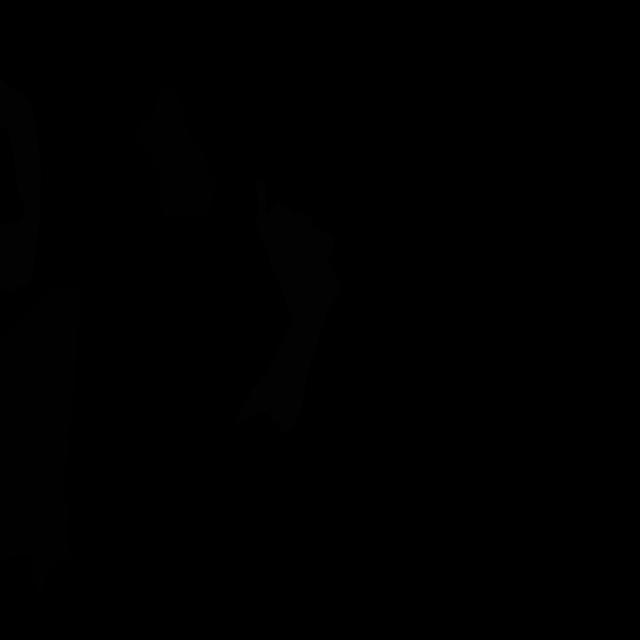cardboard: (233, 179, 342, 432), (0, 74, 42, 291)
rigid_plastic: (0, 283, 83, 595), (136, 84, 214, 219)
